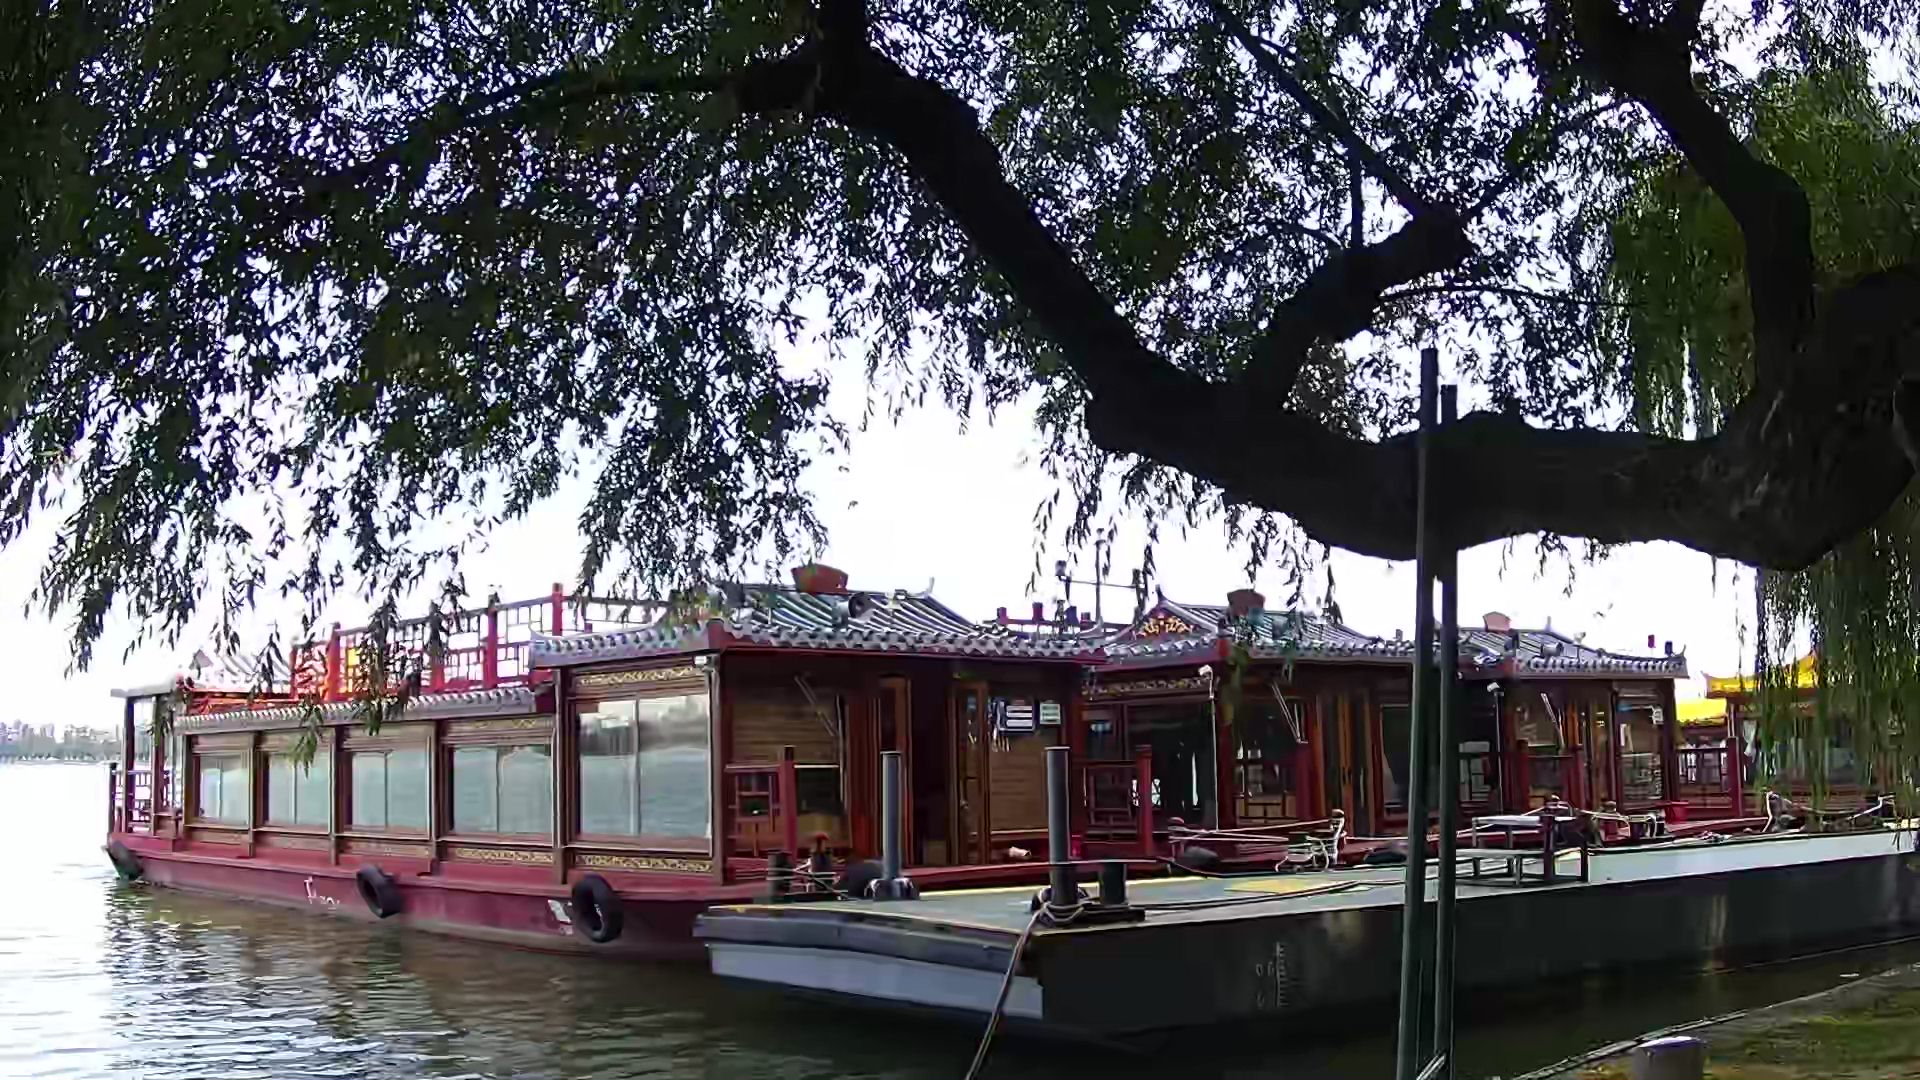boat: (104, 560, 1102, 965), (1091, 572, 1465, 880), (1415, 611, 1697, 843), (1705, 633, 1898, 839)
harbor: (694, 814, 1917, 1034)
